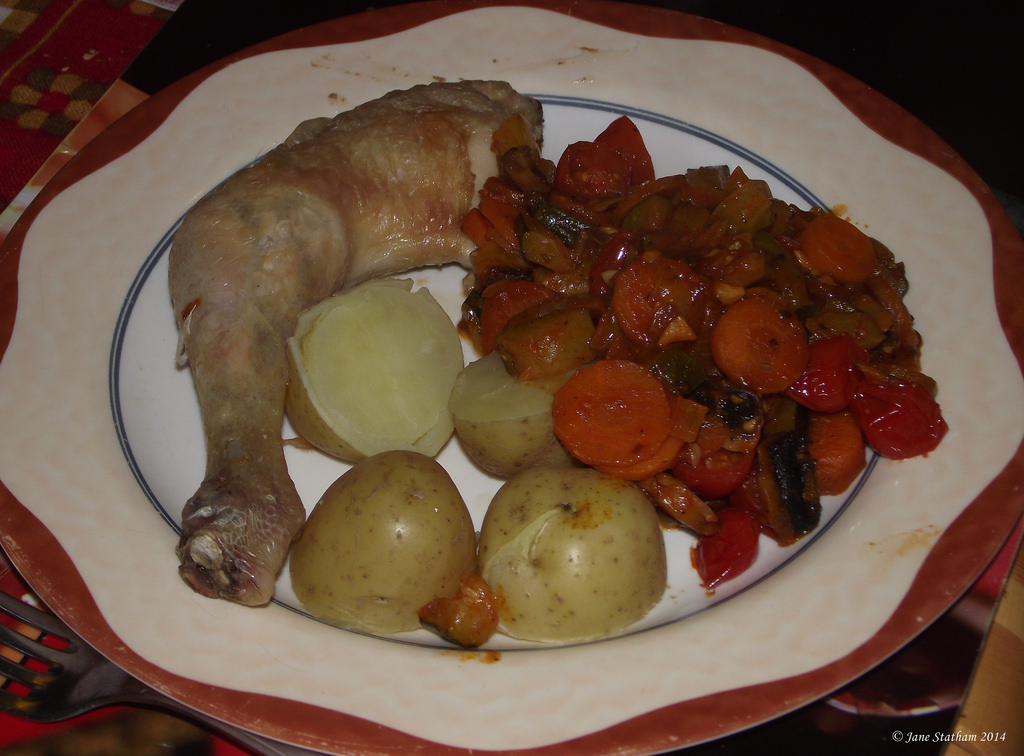boiled potatoes: (292, 451, 481, 637), (472, 464, 673, 636), (291, 287, 472, 461), (449, 366, 563, 478)
